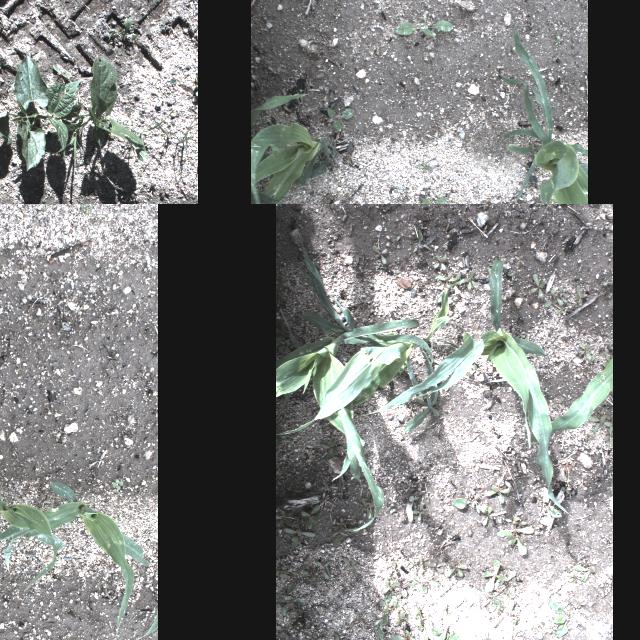crop: (364, 256, 572, 516), (276, 236, 438, 532), (0, 481, 150, 636), (482, 18, 588, 204), (314, 292, 452, 420), (251, 93, 337, 204), (60, 56, 146, 162), (0, 486, 58, 591), (552, 358, 612, 434), (12, 53, 48, 171), (42, 79, 84, 159), (0, 61, 11, 145), (130, 610, 157, 640)
weed: (56, 118, 90, 166), (393, 12, 453, 36), (131, 109, 175, 139), (548, 598, 570, 638), (108, 17, 136, 43), (326, 108, 354, 132), (332, 522, 360, 546), (491, 600, 515, 628), (176, 115, 198, 145), (150, 115, 172, 145), (483, 561, 503, 593), (451, 493, 484, 512), (486, 484, 512, 504), (506, 536, 526, 558), (320, 440, 338, 464), (300, 506, 318, 530), (530, 273, 546, 299), (280, 596, 306, 612), (414, 576, 440, 592), (413, 230, 431, 253), (313, 559, 333, 579), (542, 290, 564, 308), (416, 401, 439, 417), (497, 527, 533, 537), (497, 570, 517, 588), (412, 500, 428, 522), (589, 416, 611, 432), (462, 270, 478, 290), (276, 508, 292, 528), (446, 562, 466, 578), (374, 616, 387, 640), (80, 204, 108, 215), (526, 623, 544, 640), (431, 628, 456, 640), (52, 64, 70, 80), (114, 503, 126, 527), (276, 274, 284, 310), (566, 564, 584, 580), (444, 272, 460, 290), (372, 245, 386, 265), (503, 626, 522, 640), (574, 284, 586, 306), (396, 610, 412, 626), (361, 498, 373, 518), (282, 529, 312, 537), (379, 594, 391, 614), (581, 566, 595, 582), (432, 254, 446, 270), (302, 570, 318, 584), (278, 584, 294, 598), (344, 557, 356, 575), (580, 343, 592, 361), (603, 427, 613, 448), (116, 490, 142, 498), (416, 197, 445, 204), (482, 506, 492, 526), (402, 582, 414, 598), (542, 624, 558, 636), (382, 582, 401, 592), (321, 633, 348, 640), (491, 600, 504, 614), (276, 625, 288, 639), (412, 634, 440, 640), (501, 588, 515, 600), (278, 337, 288, 353), (276, 318, 286, 334), (546, 508, 562, 518), (278, 570, 294, 580), (408, 558, 418, 574), (112, 478, 124, 490), (466, 364, 478, 376), (552, 397, 564, 409), (437, 274, 455, 282), (297, 560, 309, 572), (416, 606, 422, 630), (388, 563, 399, 575), (116, 500, 124, 516), (417, 163, 429, 173), (394, 236, 401, 252), (429, 565, 443, 573), (470, 632, 484, 640), (598, 580, 612, 588), (407, 496, 418, 506), (406, 629, 416, 640), (418, 557, 424, 575), (506, 271, 516, 281), (558, 286, 568, 296), (289, 537, 299, 547), (282, 490, 294, 498), (290, 520, 302, 528), (392, 596, 398, 612), (504, 516, 520, 522), (512, 520, 528, 526), (386, 635, 405, 640), (288, 610, 302, 616), (555, 35, 563, 45), (280, 466, 288, 476), (514, 256, 524, 264), (603, 278, 613, 286), (586, 433, 596, 441), (0, 58, 7, 69), (322, 426, 333, 432), (562, 486, 570, 494), (607, 572, 613, 582), (602, 354, 608, 364), (41, 204, 50, 210), (388, 508, 396, 514), (608, 341, 612, 352), (170, 79, 177, 85), (484, 633, 490, 640), (378, 9, 388, 13), (556, 310, 566, 314), (562, 458, 570, 462), (387, 575, 395, 579), (610, 595, 612, 603)
